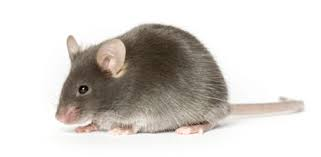mice: (53, 21, 306, 136)
